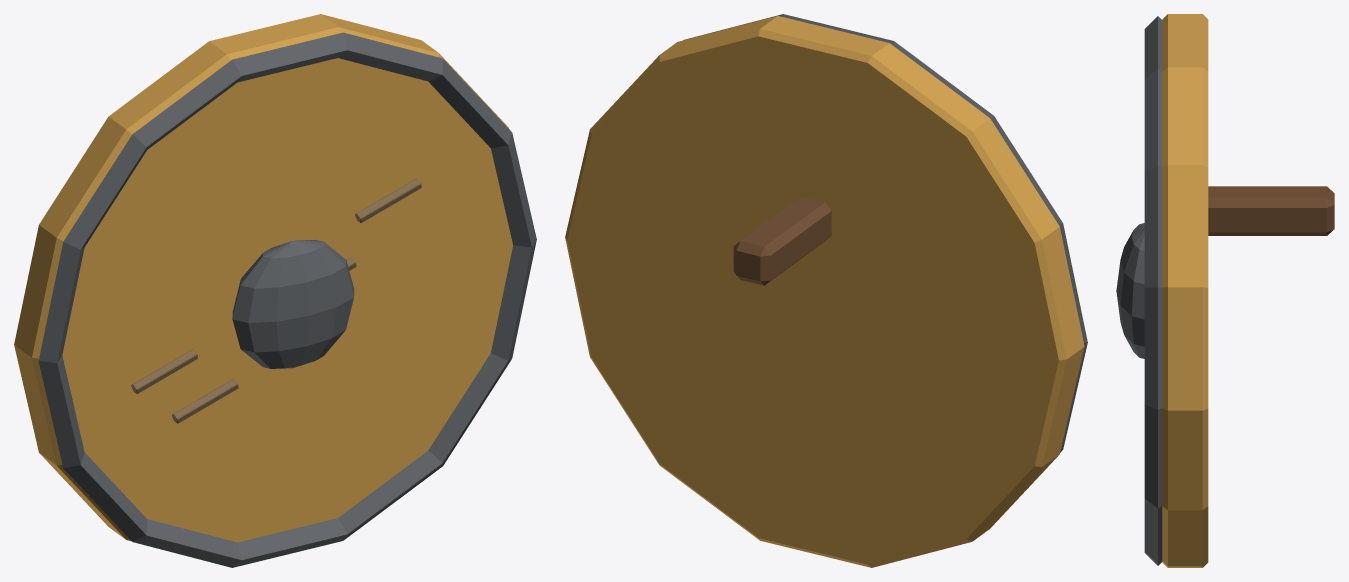
Rendered from runtime.glb.
3 renders of one model, left to right at view 1: azimuth 30°, elevation 25°; view 2: azimuth 150°, elevation 25°; view 3: azimuth 270°, elevation 25°, orthographic. The views are drawn at different scales.
Parts seen in each view (by area): view 1: falkenwacht-wall-shield-v03_nocol; view 2: falkenwacht-wall-shield-v03_nocol; view 3: falkenwacht-wall-shield-v03_nocol.
Boxes of the visible parts, x1,y1,x2,y2 form: falkenwacht-wall-shield-v03_nocol: [14, 14, 536, 567]; falkenwacht-wall-shield-v03_nocol: [565, 14, 1087, 567]; falkenwacht-wall-shield-v03_nocol: [1116, 14, 1334, 567].
Size of the model in its own units: 1.48 by 1.44 by 0.57.
